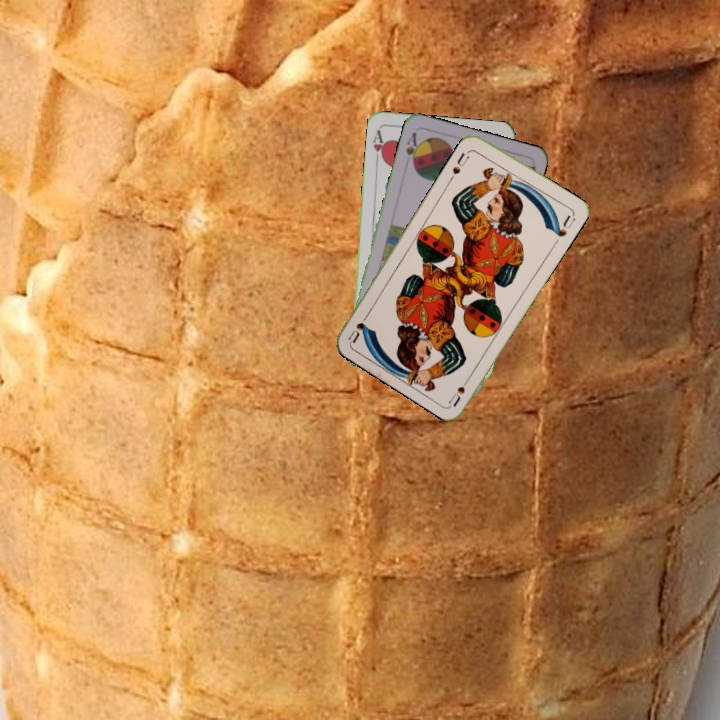HA: (369, 125, 388, 166)
SA: (402, 128, 423, 169)
SU: (445, 370, 475, 408), (448, 148, 472, 177)
